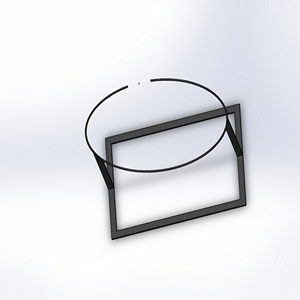circle: (82, 75, 249, 241)
